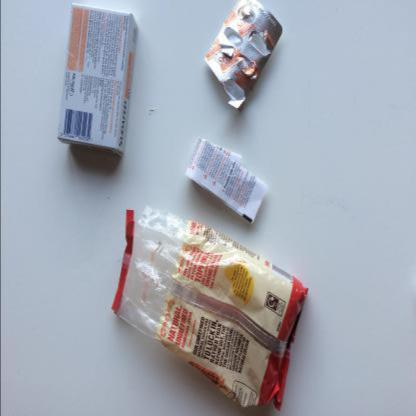Carton: (57, 3, 137, 156)
Other litter: (204, 0, 282, 112)
Paper: (185, 137, 268, 224)
Plastic bag - wrapper: (112, 204, 308, 412)
